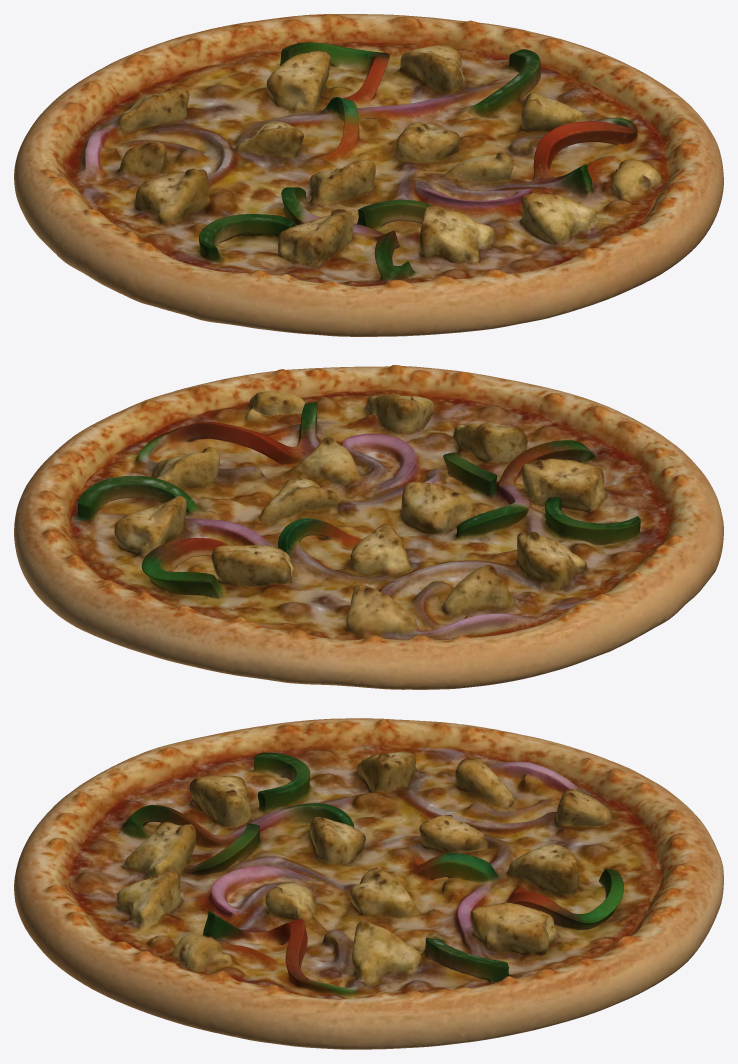
The model's file is pizza.glb.
The picture shows the model from 3 angles, top to bottom: view 1: azimuth 30°, elevation 25°; view 2: azimuth 150°, elevation 25°; view 3: azimuth 270°, elevation 25°; orthographic projection.
Parts seen in each view (by area): view 1: geometry_0; view 2: geometry_0; view 3: geometry_0.
Boxes of the visible parts, left/top/right/bottom form: geometry_0: left=14, top=14, right=723, bottom=336; geometry_0: left=14, top=365, right=723, bottom=689; geometry_0: left=14, top=718, right=723, bottom=1049.
Bounding box in the file's own units: 0.3 × 0.0306 × 0.2992.
Materials: 1 (1 with a texture image).
